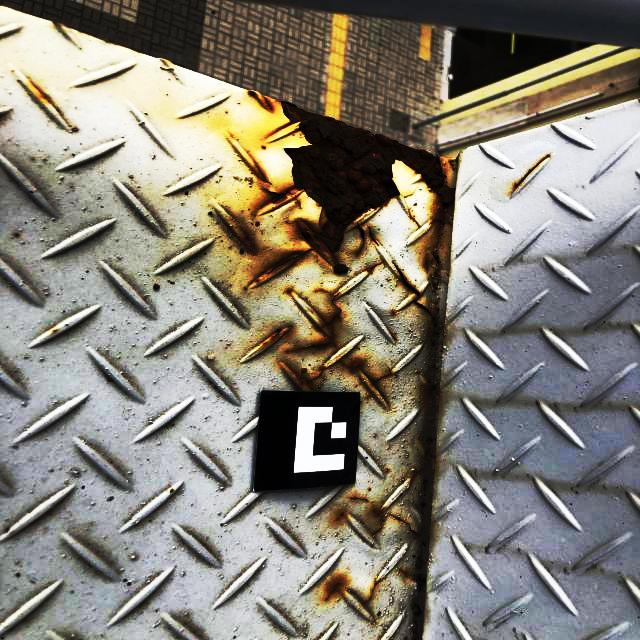Corrosion: (249, 94, 460, 289), (282, 287, 348, 353), (372, 506, 422, 538), (512, 155, 550, 193), (388, 258, 423, 299), (287, 363, 329, 389), (412, 300, 440, 330), (323, 576, 351, 603), (260, 326, 295, 346), (335, 356, 365, 373), (370, 368, 396, 387), (30, 82, 52, 103), (241, 228, 258, 255), (361, 580, 379, 605), (332, 509, 348, 524), (430, 253, 443, 266), (345, 496, 373, 502)
